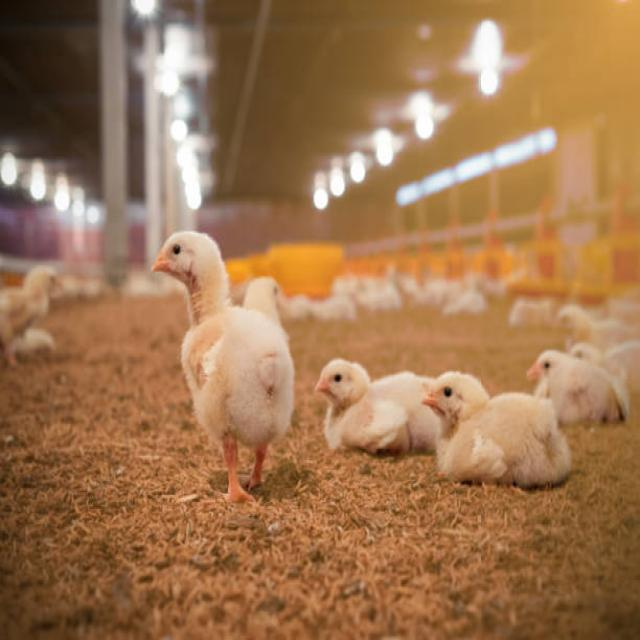Healthy: (146, 210, 296, 502), (416, 367, 579, 492), (311, 346, 421, 458)
